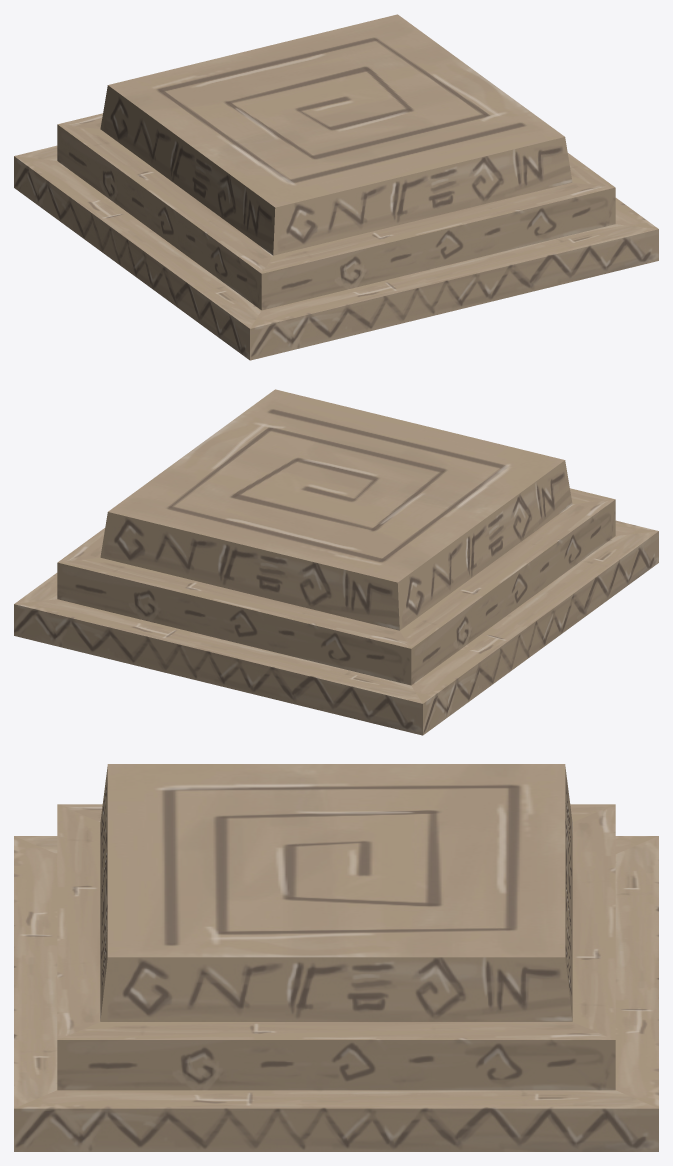
File: chapeau.FBX
3 views of the same model, one above another, from view 1: azimuth 30°, elevation 25°; view 2: azimuth 150°, elevation 25°; view 3: azimuth 270°, elevation 25° (orthographic). The views are drawn at different scales.
Visible parts, largest first — view 1: chapeau; view 2: chapeau; view 3: chapeau.
Boxes of the visible parts, bbox=[...] form: chapeau: bbox=[14, 14, 658, 360]; chapeau: bbox=[14, 389, 658, 735]; chapeau: bbox=[14, 764, 658, 1151].
Size of the model in its own units: 39.37 by 10.43 by 39.37.
